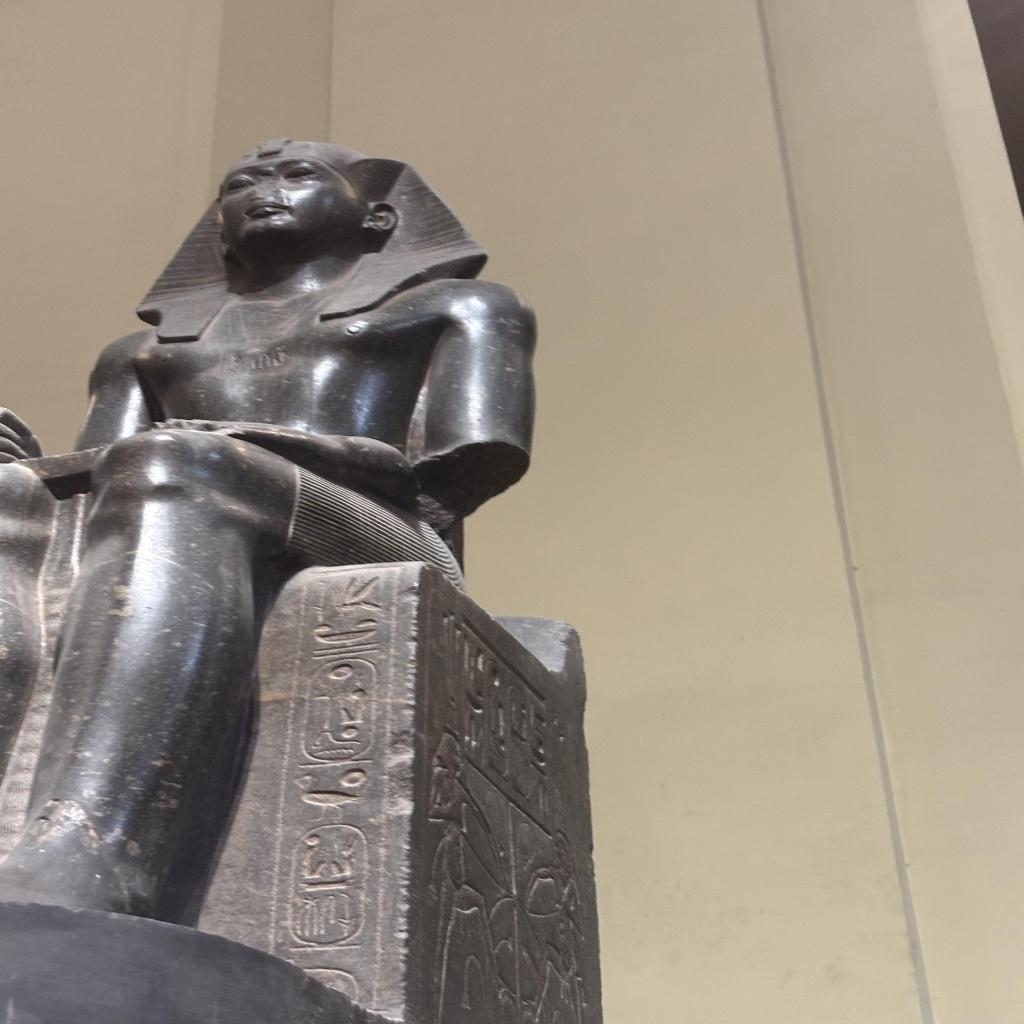Seated Statue of Ramesses II: (3, 134, 543, 921)
